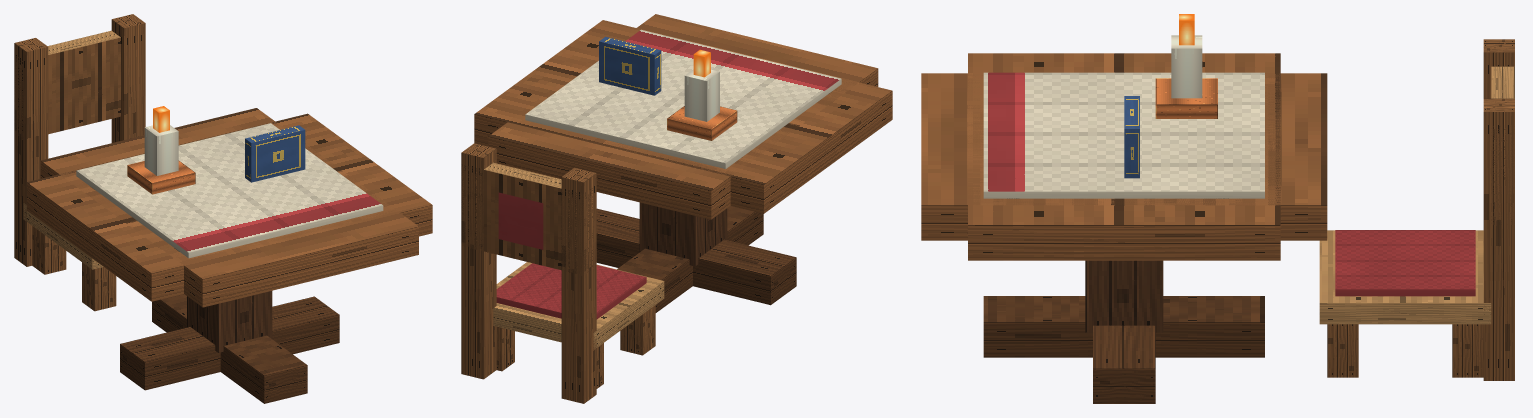
The model's file is table_set.glb.
3 views of the same model, side by side, from view 1: azimuth 30°, elevation 25°; view 2: azimuth 150°, elevation 25°; view 3: azimuth 270°, elevation 25° (orthographic). The views are drawn at different scales.
Visible parts, largest first — view 1: root; view 2: root; view 3: root.
Boxes of the visible parts, <box> form: root: <box>14,14,432,403</box>; root: <box>461,14,892,403</box>; root: <box>921,14,1514,403</box>.
Size of the model in its own units: 70.2 by 57.38 by 103.
2 materials, 2 textured.
